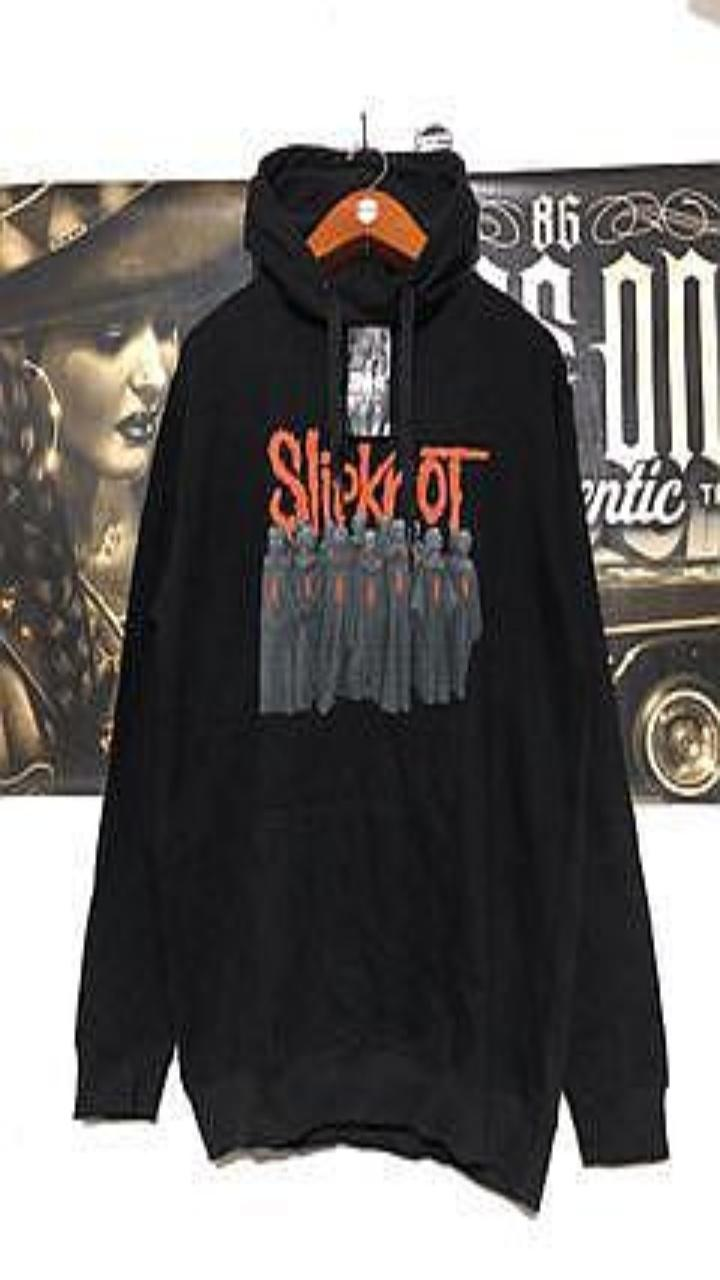Hoodie: (74, 144, 667, 1209)
